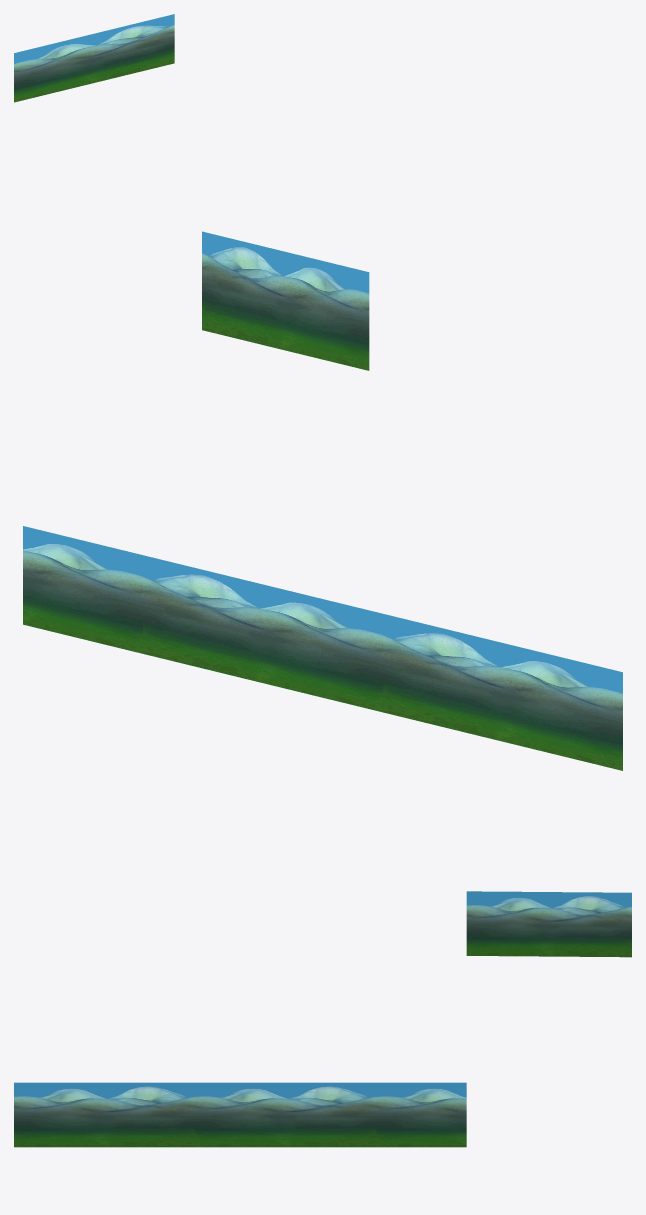
File: mounts02.glb
The picture shows the model from 3 angles, top to bottom: view 1: azimuth 30°, elevation 25°; view 2: azimuth 150°, elevation 25°; view 3: azimuth 270°, elevation 25°; orthographic projection. The views are drawn at different scales.
Visible parts, largest first — view 1: mounts02; view 2: mounts02; view 3: mounts02.
Boxes of the visible parts, left/top/right/bottom form: mounts02: left=14, top=14, right=174, bottom=102; mounts02: left=23, top=231, right=622, bottom=770; mounts02: left=14, top=891, right=631, bottom=1147.
Size of the model in its own units: 19016 by 2338 by 20294.
1 material, 1 textured.
